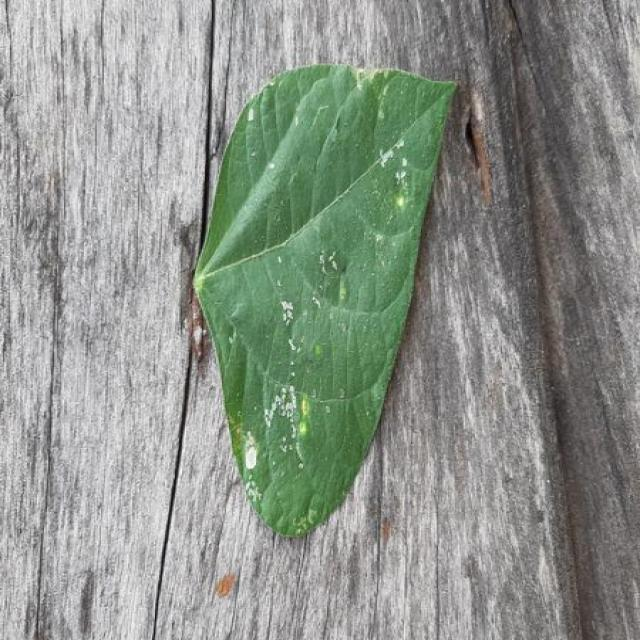beans: (193, 65, 455, 536)
defectedbeans: (205, 281, 412, 536)
